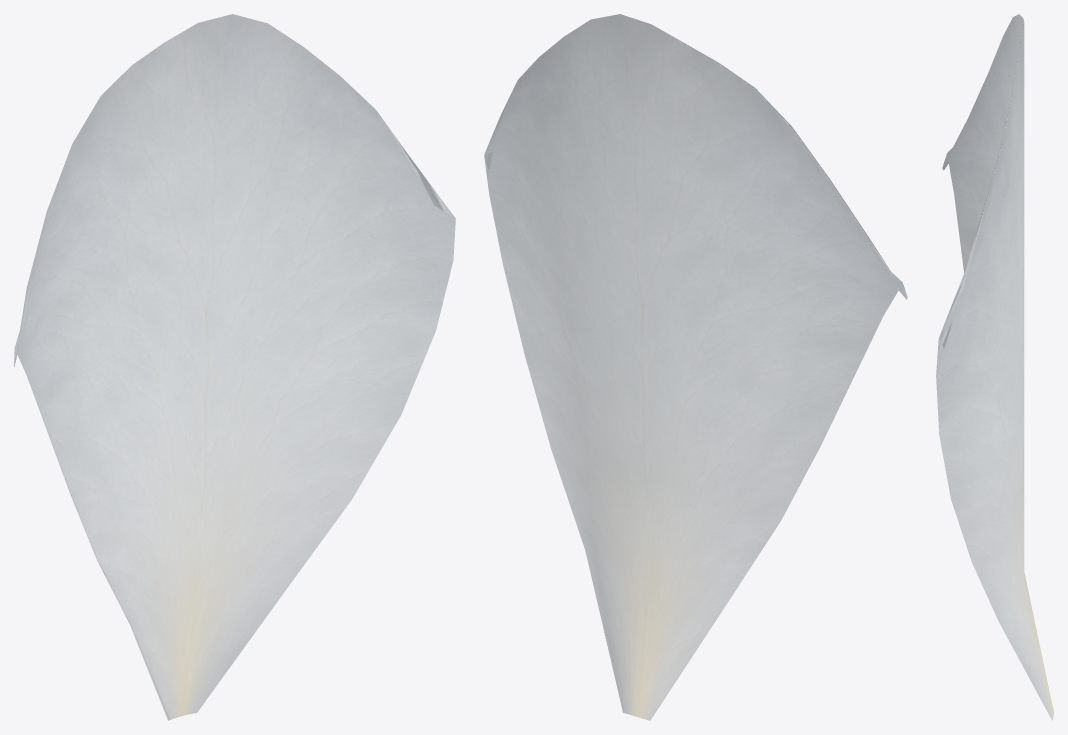
File: inner_01.glb
3 renders of one model, left to right at view 1: azimuth 30°, elevation 25°; view 2: azimuth 150°, elevation 25°; view 3: azimuth 270°, elevation 25°, orthographic. The views are drawn at different scales.
Parts seen in each view (by area): view 1: inner_01; view 2: inner_01; view 3: inner_01.
Boxes of the visible parts, x1=… form: inner_01: x1=14, y1=14, x2=455, y2=720; inner_01: x1=484, y1=14, x2=907, y2=720; inner_01: x1=936, y1=14, x2=1053, y2=720.
Size of the model in its own units: 0.0414 by 0.0637 by 0.0098.
Materials: 1 (1 with a texture image).
